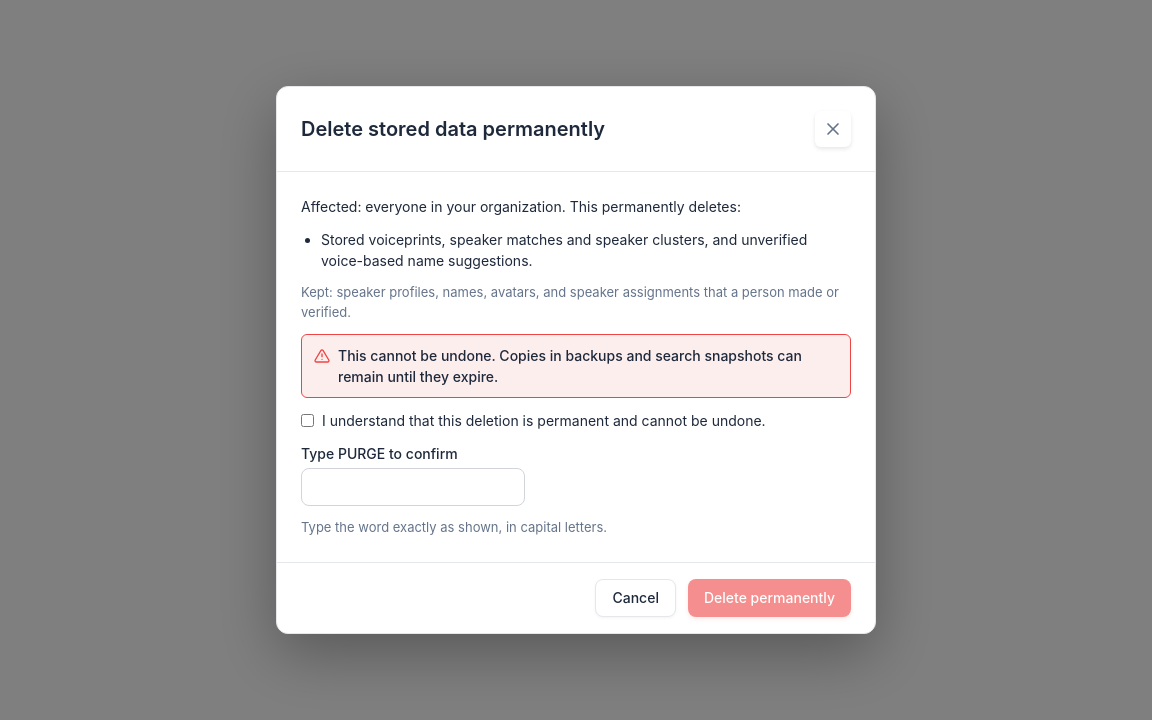
PurgeConfirmDialog › falls back to a generic sentence for an error it has no copy for
Click the checkbox: (308, 421) left=301, top=414, right=314, bottom=427
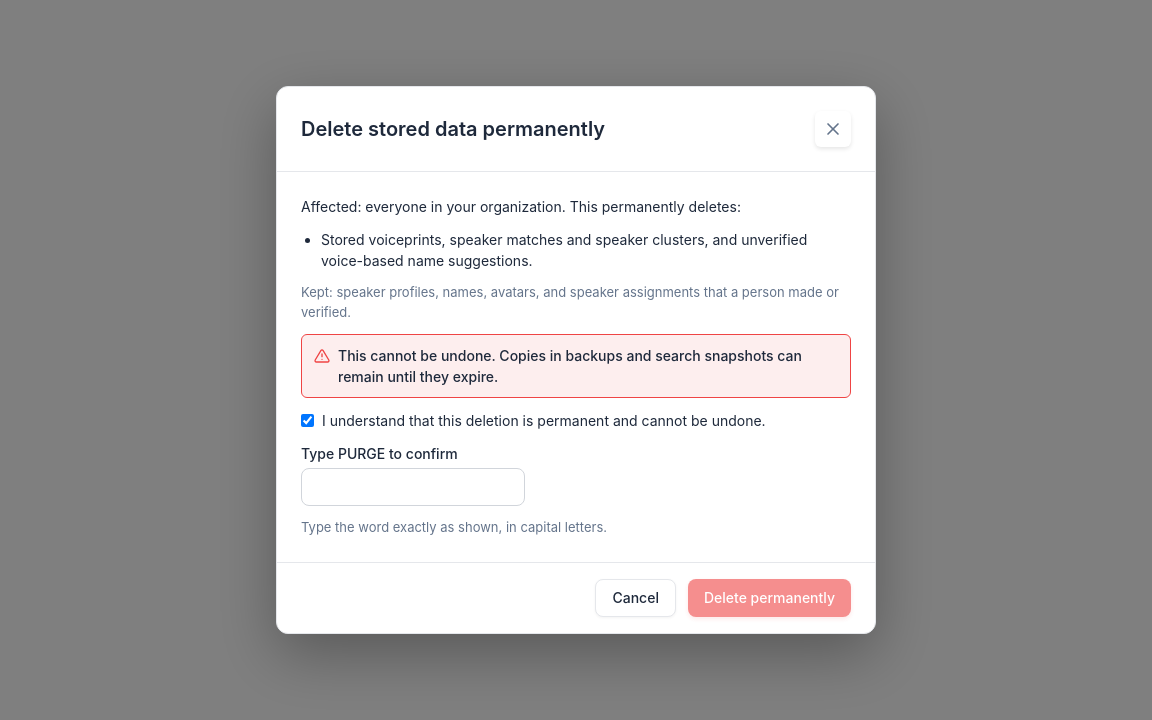
In the field: (413, 487) left=301, top=468, right=525, bottom=506, type "PURGE"
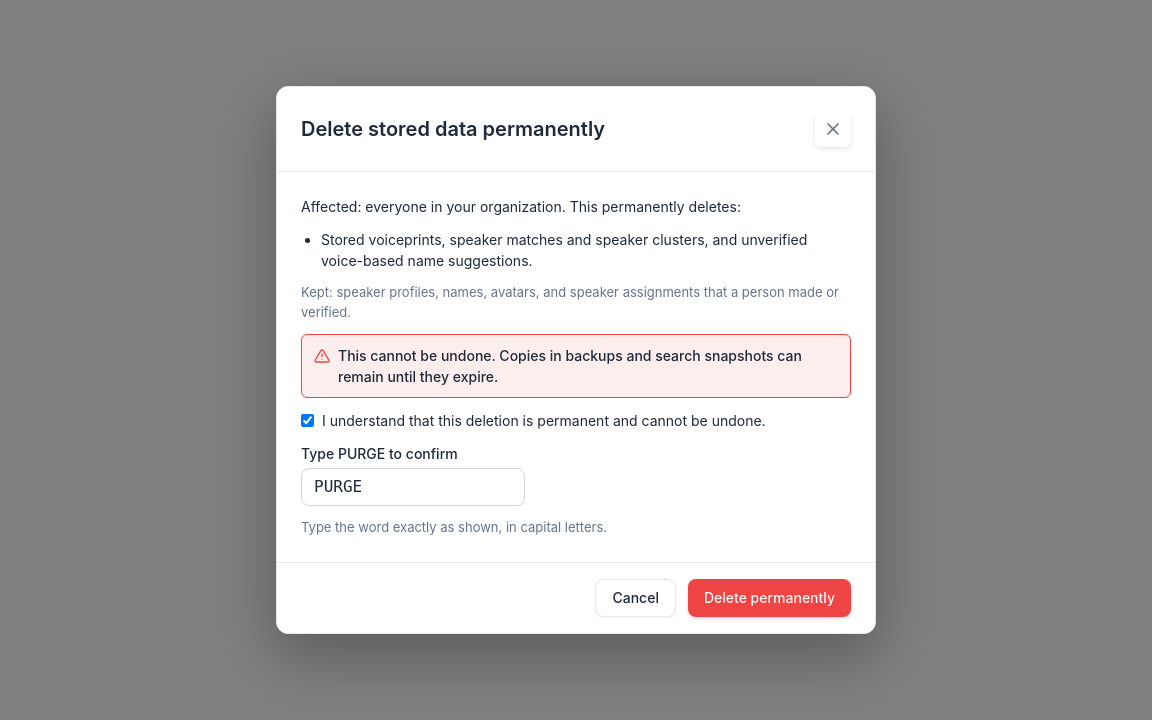
Click the button with test id "purge-confirm": (770, 598) left=688, top=579, right=851, bottom=617
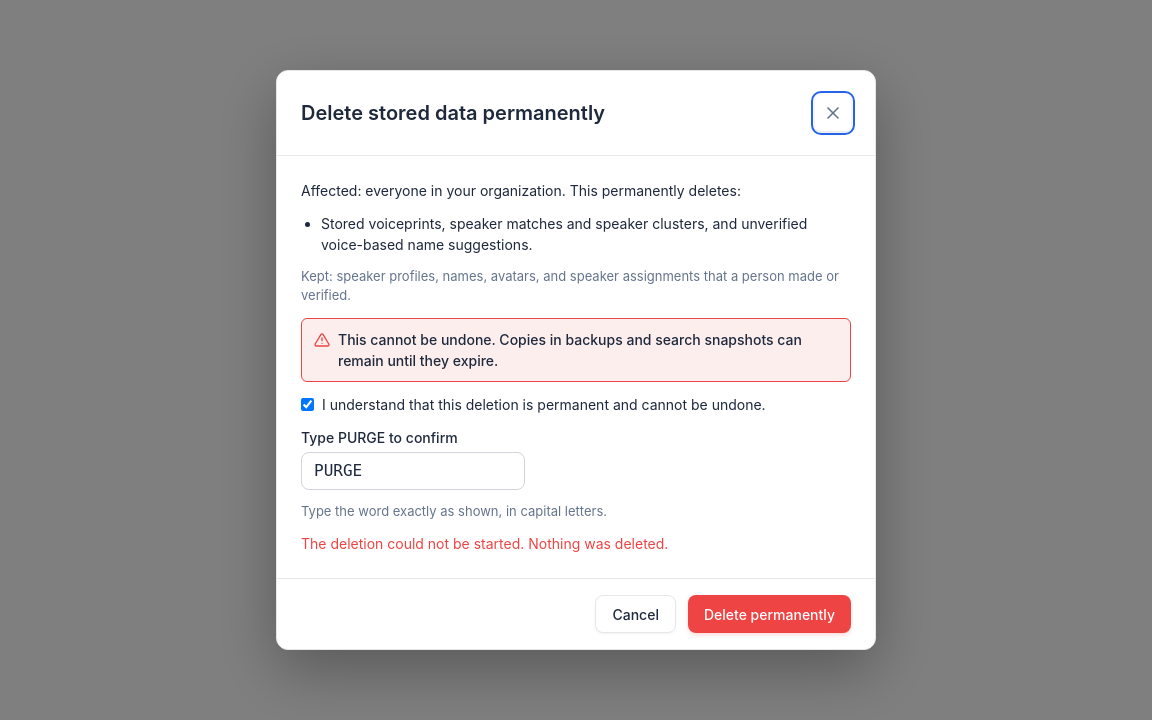
Now the message reads "The deletion could not be started. Nothing was deleted.", box left=301, top=535, right=668, bottom=552
